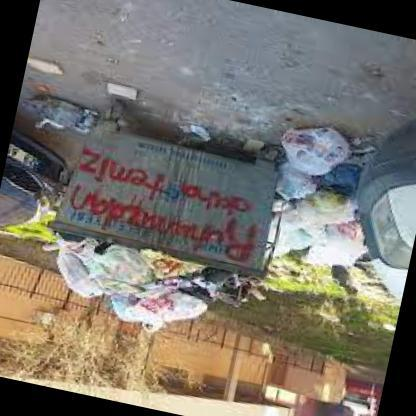Garbage: (37, 233, 259, 356), (274, 204, 368, 274), (268, 108, 348, 174), (41, 234, 108, 304), (171, 263, 258, 316), (21, 80, 94, 140), (78, 242, 156, 298), (128, 244, 208, 291), (138, 284, 206, 336), (268, 198, 316, 256), (308, 156, 364, 204), (152, 113, 215, 146), (300, 186, 345, 226), (276, 156, 318, 196), (98, 292, 145, 324)
